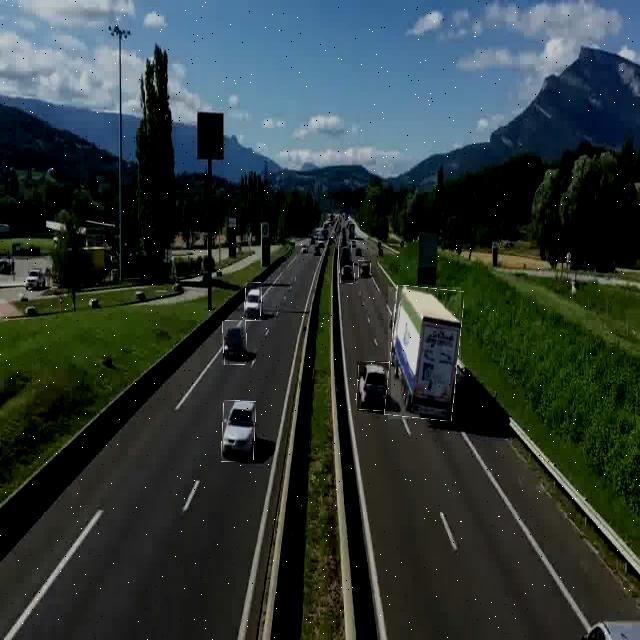Car: (222, 401, 255, 462), (357, 361, 391, 411), (222, 321, 246, 365), (245, 283, 262, 321), (340, 261, 354, 284), (339, 245, 352, 267), (359, 260, 371, 279)
Truck: (388, 287, 461, 419)
